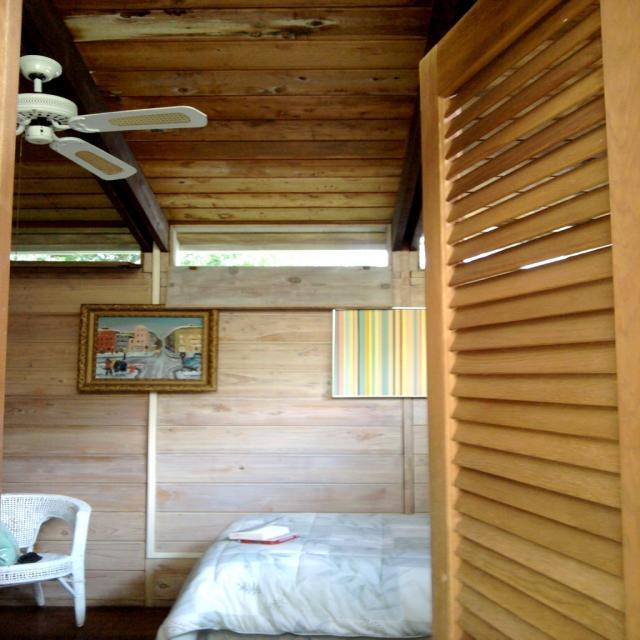fan_off: (14, 50, 210, 184)
